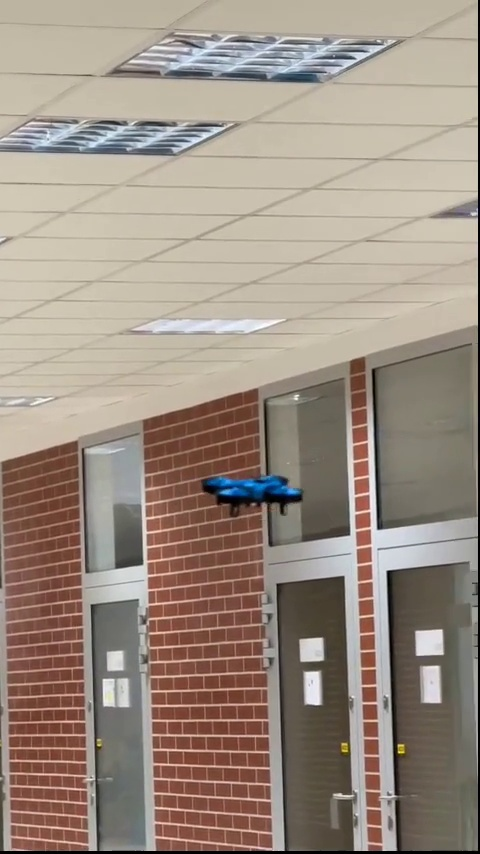drone: (194, 472, 298, 512)
